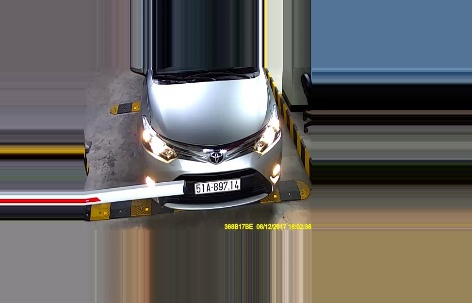plate: (194, 178, 243, 192)
